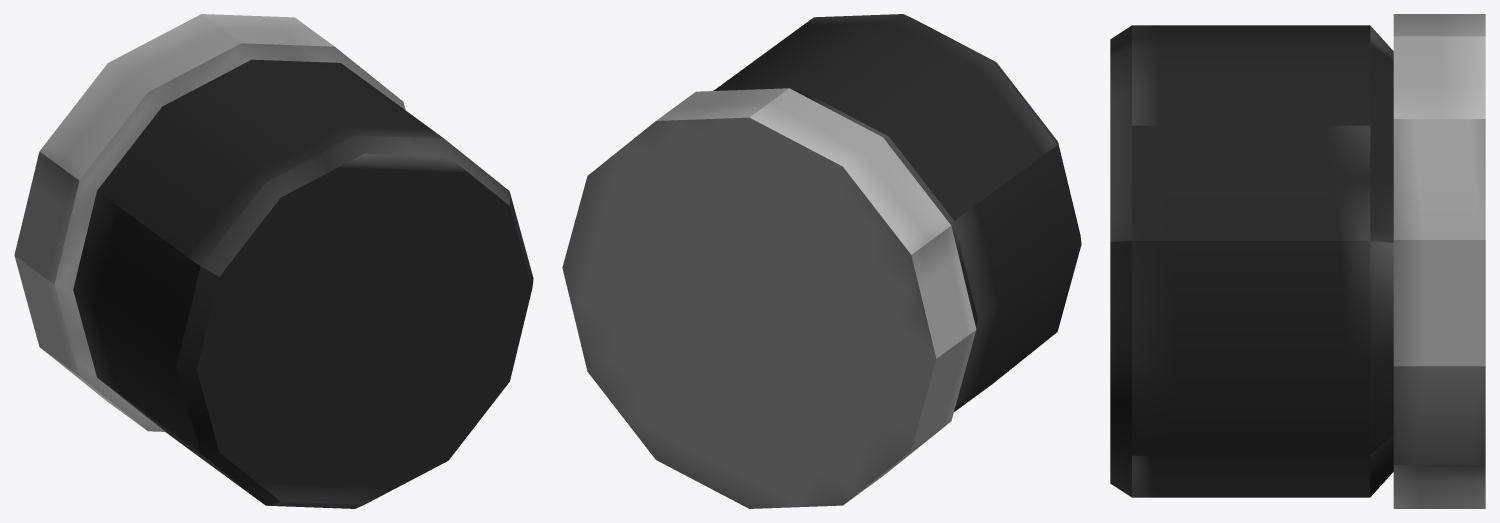
The model's file is Jar_Small.fbx.
The picture shows the model from 3 angles, left to right: view 1: azimuth 30°, elevation 25°; view 2: azimuth 150°, elevation 25°; view 3: azimuth 270°, elevation 25°; orthographic projection. The views are drawn at different scales.
Visible parts, largest first — view 1: Jar_Small; view 2: Jar_Small; view 3: Jar_Small.
Part boxes in pixels (x1,y1,x2,y2): Jar_Small: [14, 14, 533, 508]; Jar_Small: [562, 14, 1081, 508]; Jar_Small: [1110, 14, 1485, 508].
Bounding box in the file's own units: 25.41 × 25.41 × 19.21.
